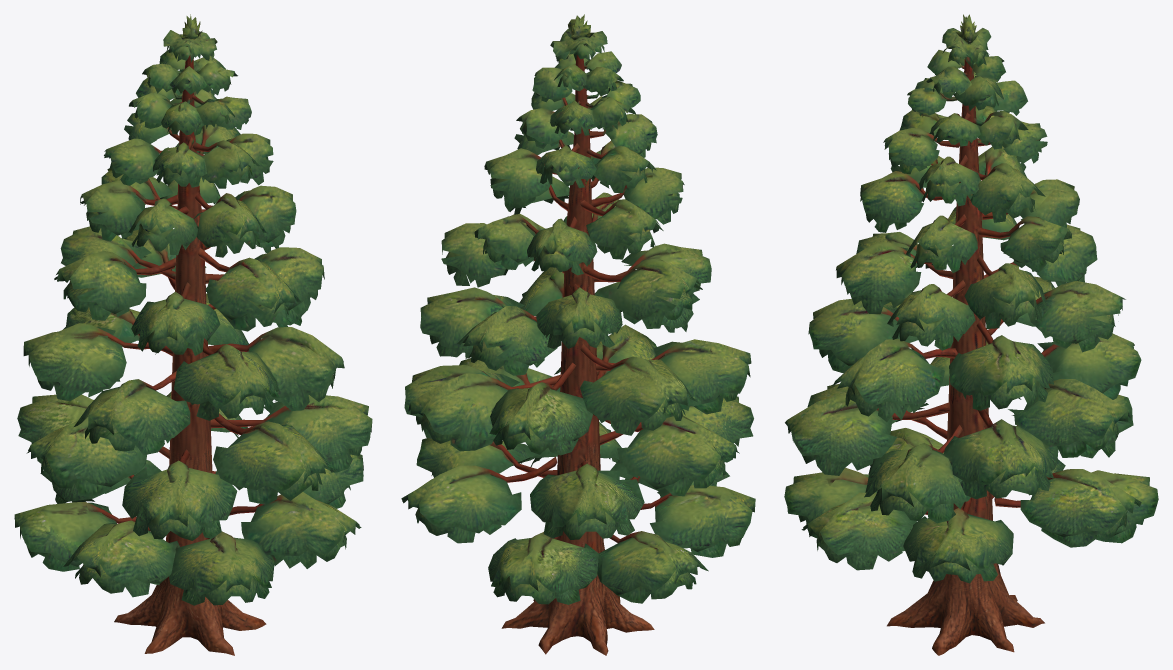
Rendered from output_model_url.glb.
The picture shows the model from 3 angles, left to right: view 1: azimuth 30°, elevation 25°; view 2: azimuth 150°, elevation 25°; view 3: azimuth 270°, elevation 25°; orthographic projection.
Visible parts, largest first — view 1: tripo_node_bf41b3d0-d8bd-46cb-b1af-caf8742c8222; view 2: tripo_node_bf41b3d0-d8bd-46cb-b1af-caf8742c8222; view 3: tripo_node_bf41b3d0-d8bd-46cb-b1af-caf8742c8222.
Boxes of the visible parts, x1=… form: tripo_node_bf41b3d0-d8bd-46cb-b1af-caf8742c8222: x1=14, y1=14, x2=372, y2=655; tripo_node_bf41b3d0-d8bd-46cb-b1af-caf8742c8222: x1=401, y1=14, x2=755, y2=655; tripo_node_bf41b3d0-d8bd-46cb-b1af-caf8742c8222: x1=784, y1=14, x2=1158, y2=655.
Size of the model in its own units: 0.5298 by 0.9995 by 0.5552.
Materials: 1 (1 with a texture image).
